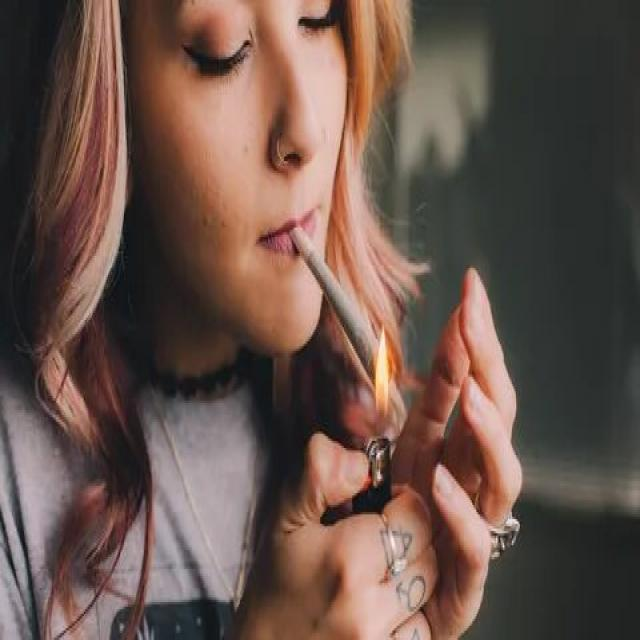cigarette: (291, 221, 398, 410)
